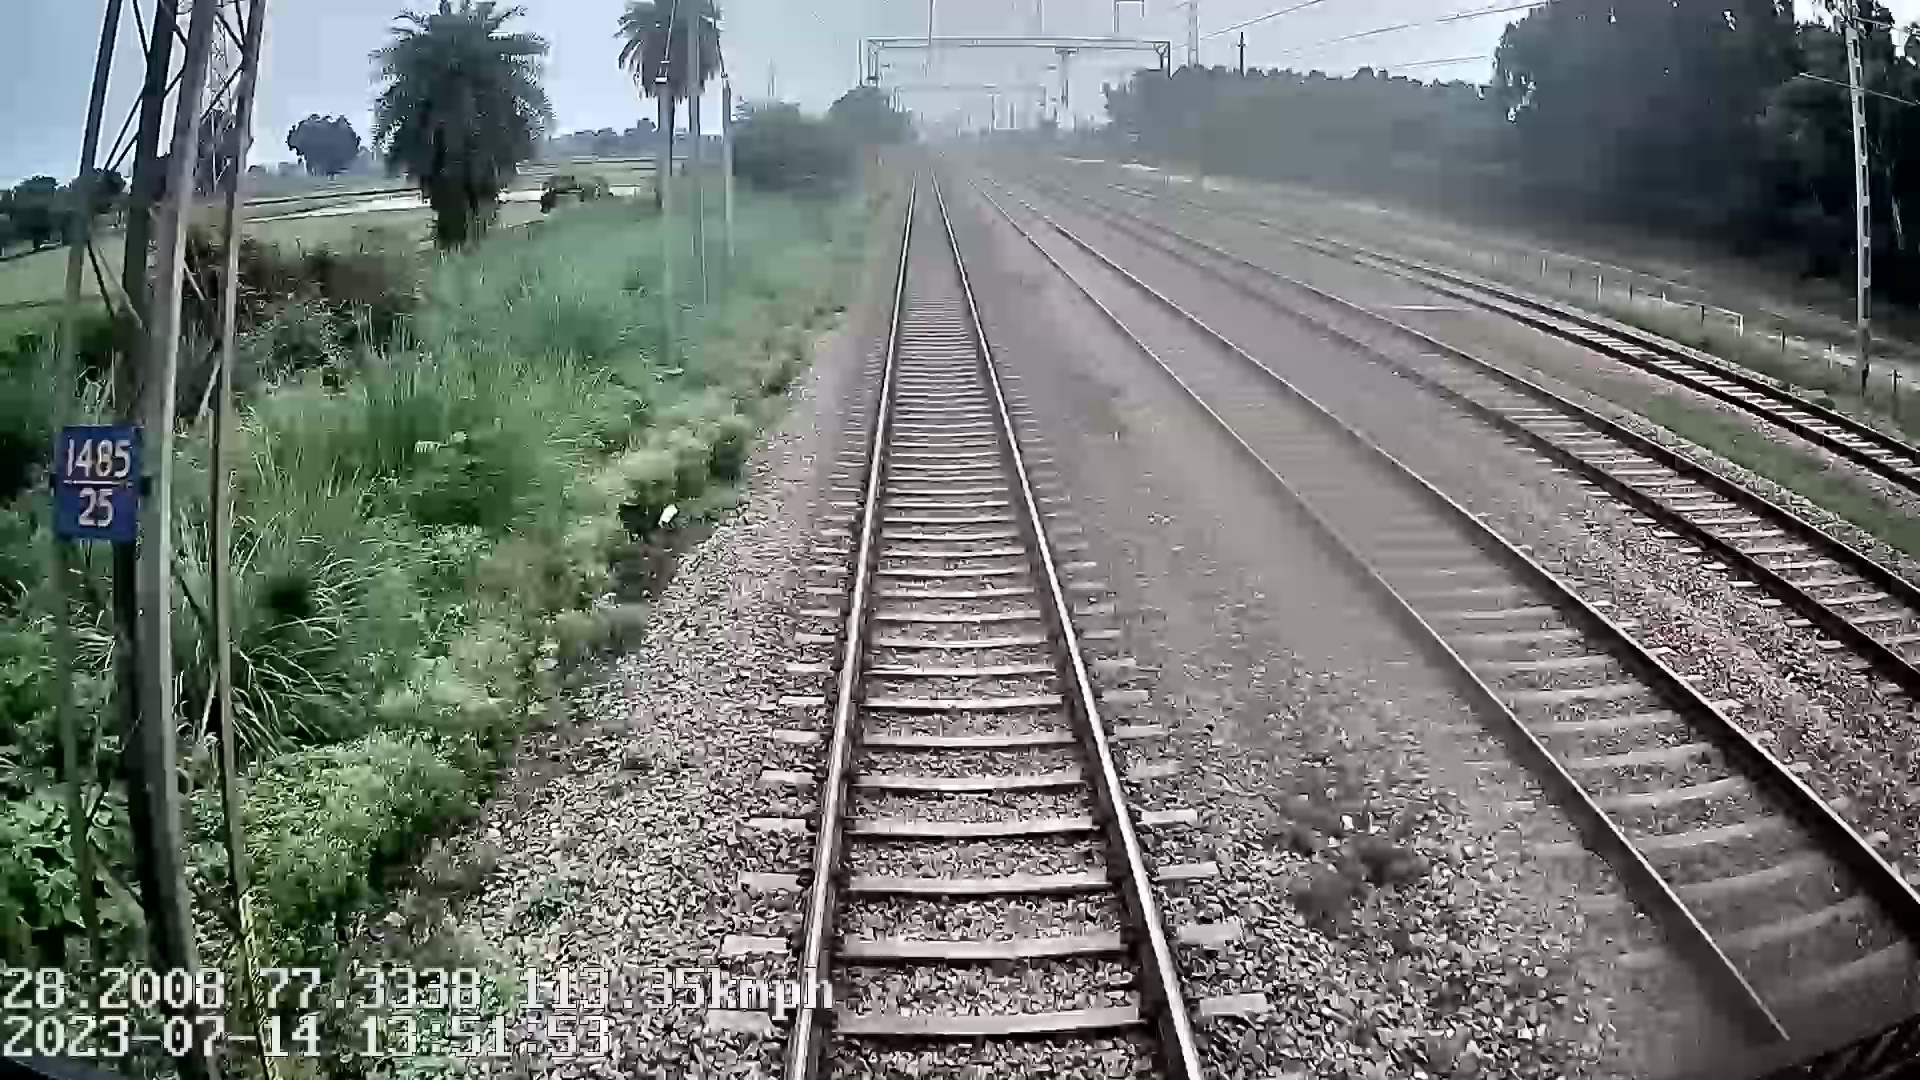track1: (803, 182, 1185, 1050)
track2: (1002, 207, 1912, 1013)
track3: (1150, 232, 1919, 661)
track4: (1344, 252, 1915, 479)
